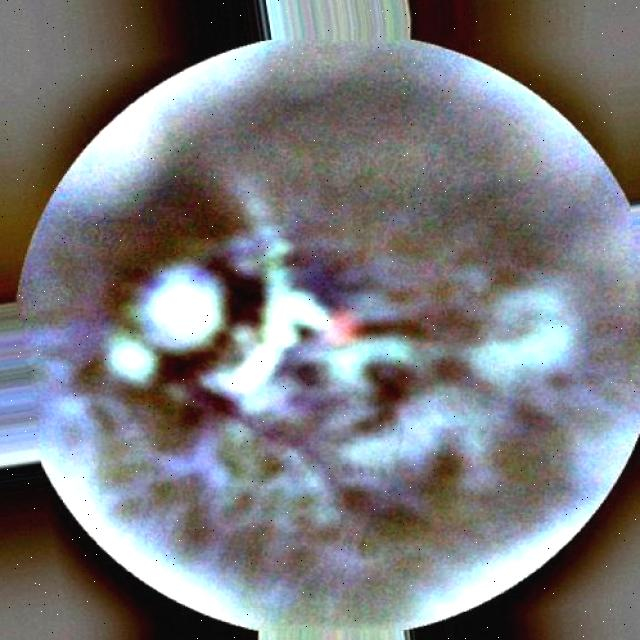Nerves: (162, 284, 251, 381)
Optic Disk: (126, 260, 300, 391)
